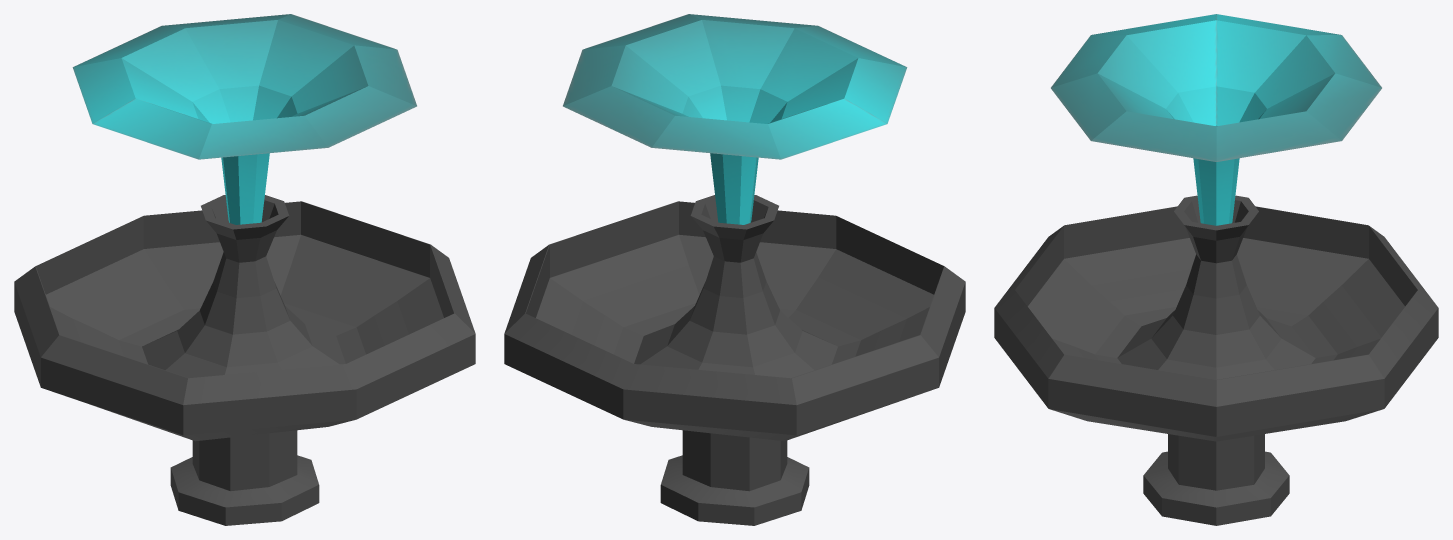
File: fountain_Unbroken_1.fbx
The picture shows the model from 3 angles, left to right: view 1: azimuth 30°, elevation 25°; view 2: azimuth 150°, elevation 25°; view 3: azimuth 270°, elevation 25°; orthographic projection.
Parts seen in each view (by area): view 1: polySurface219; view 2: polySurface219; view 3: polySurface219.
Part boxes in pixels (x1,y1,x2,y2): polySurface219: (14,14,475,525); polySurface219: (504,14,965,525); polySurface219: (994,14,1438,525).
Bounding box in the file's own units: 3.46 × 3.43 × 3.28.
